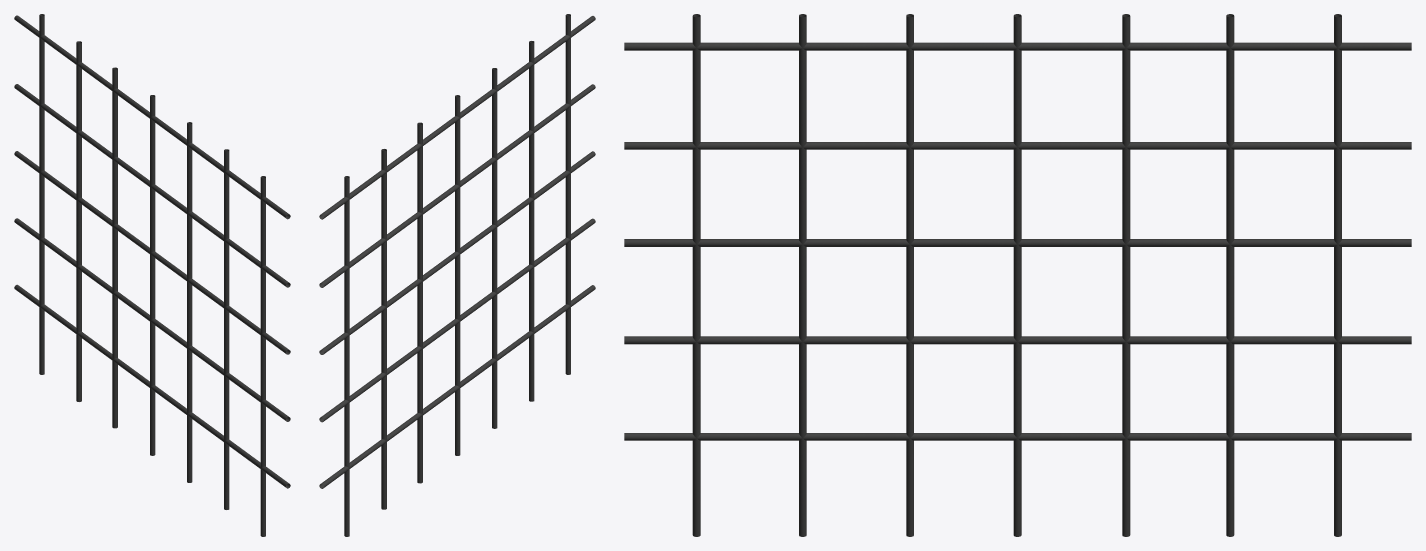
Rendered from Door_Wide.fbx.
3 renders of one model, left to right at view 1: azimuth 30°, elevation 25°; view 2: azimuth 150°, elevation 25°; view 3: azimuth 270°, elevation 25°, orthographic. The views are drawn at different scales.
Visible parts, largest first — view 1: wideGate; view 2: wideGate; view 3: wideGate.
Part boxes in pixels (bbox=[...]): wideGate: bbox=[14, 14, 290, 536]; wideGate: bbox=[319, 14, 595, 536]; wideGate: bbox=[624, 14, 1411, 536].
Size of the model in its own units: 7.4 by 536 by 736.
